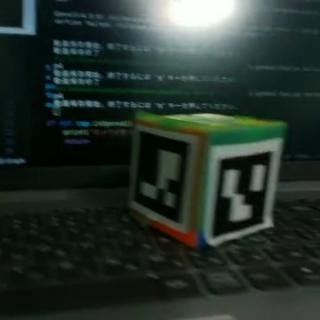armor: (209, 138, 280, 245), (132, 126, 199, 230)
robot: (129, 112, 286, 251)
